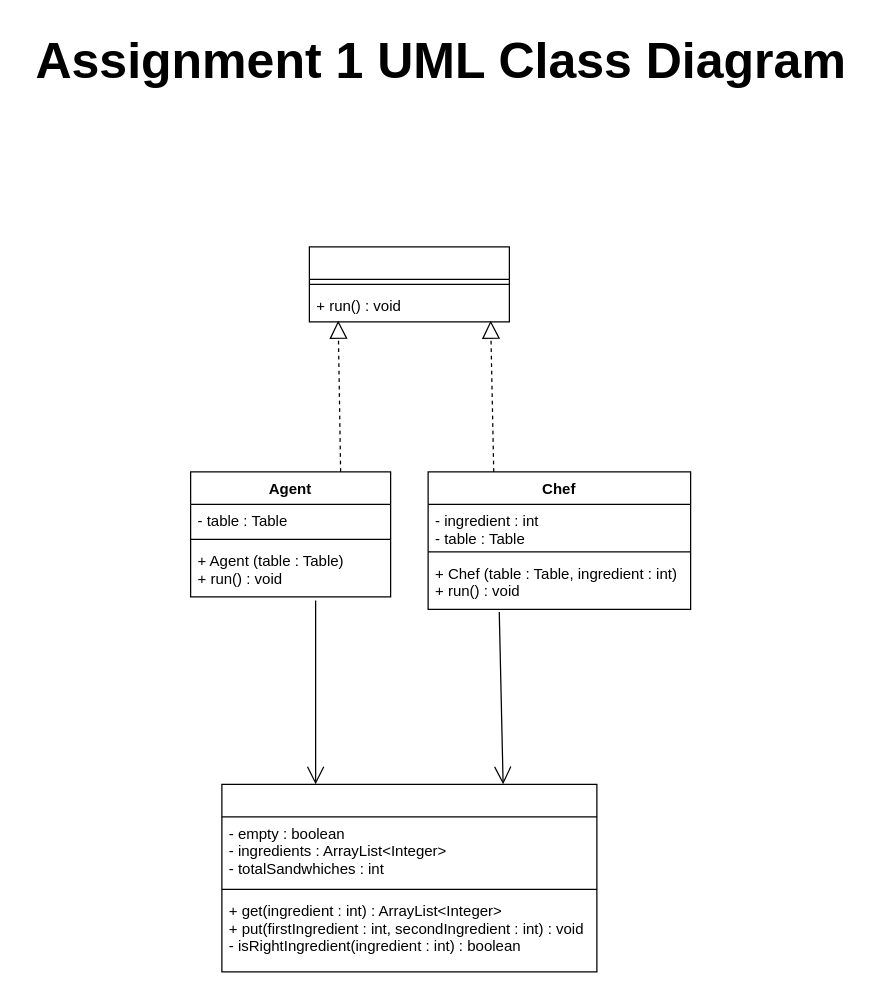
This 880x996 diagram has some shape labels left out. Each missing label, with the box of its shape:
Runnable: (308, 246, 509, 322)
Table: (221, 783, 597, 972)
